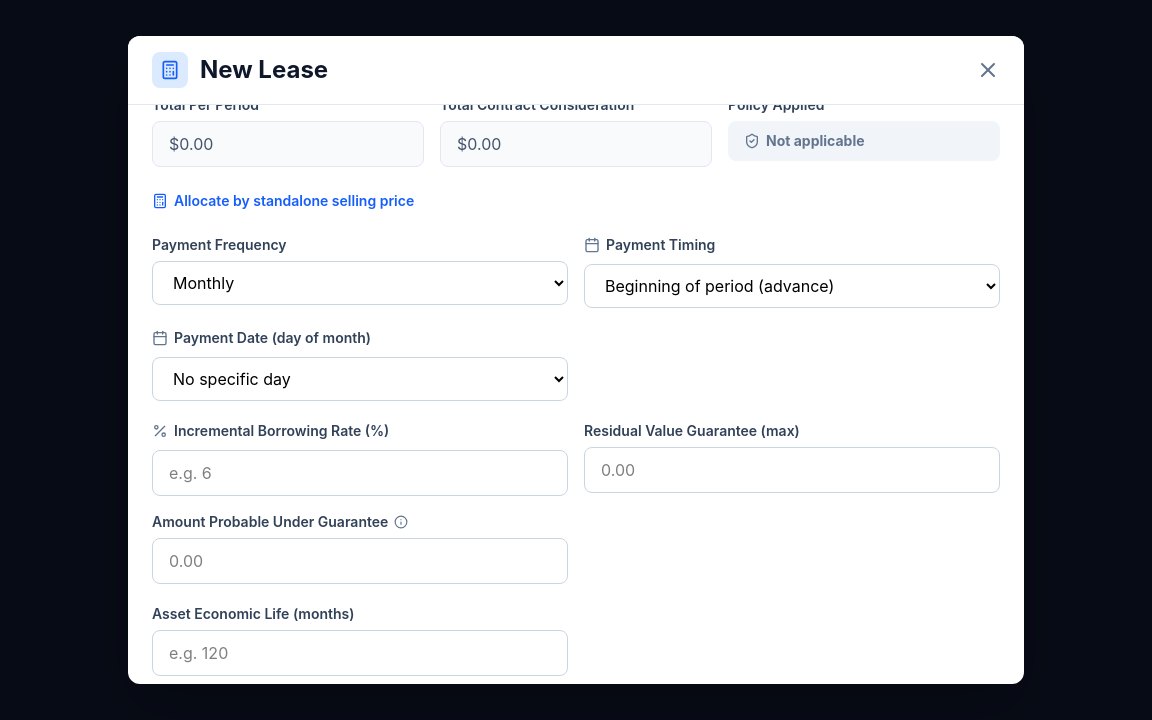
Test case: Create lease -> save_lease with generated schedule -> balanced initial recognition › client validation blocks the save: asset class, date order and a zero payment
Earlier steps of the test are not shown.
(page scrolled)
Submit the form named "Create Lease"
(page scrolled)
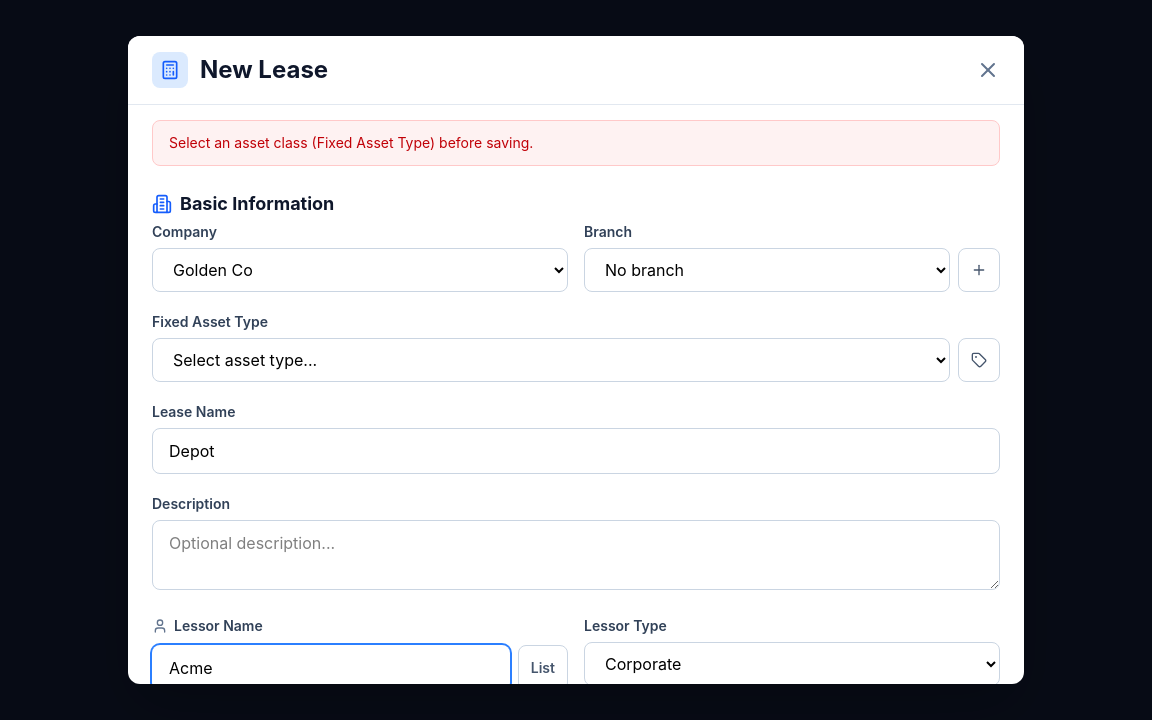
Result: the text "Select an asset class (Fixed Asset Type) before saving." is shown at 152,120 -> 1000,166
Select "Vehicles (VEH)" in the 3rd dropdown showing "Select asset type..." at point(551, 360), box 152,338 -> 950,382
(page scrolled)
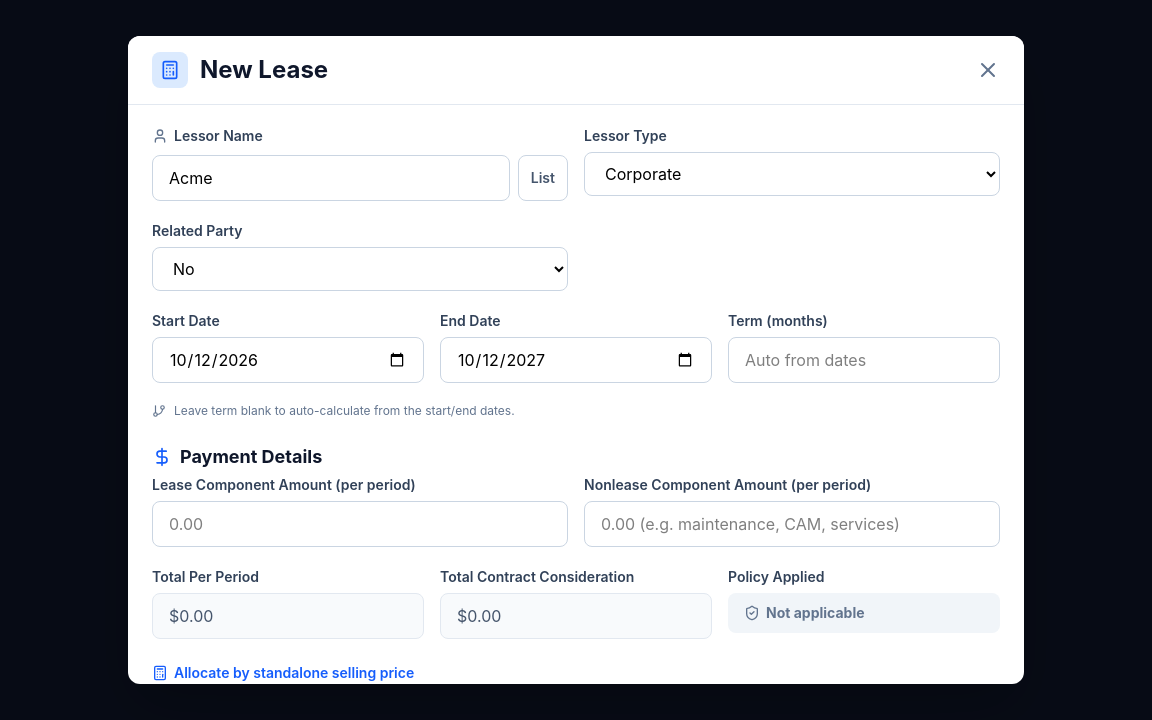
Type "2026-05-01" into the date field below "Start Date" at point(288, 360), box 152,337 -> 424,383
Type "2026-01-01" into the 2nd date field at point(576, 360), box 440,337 -> 712,383
(page scrolled)
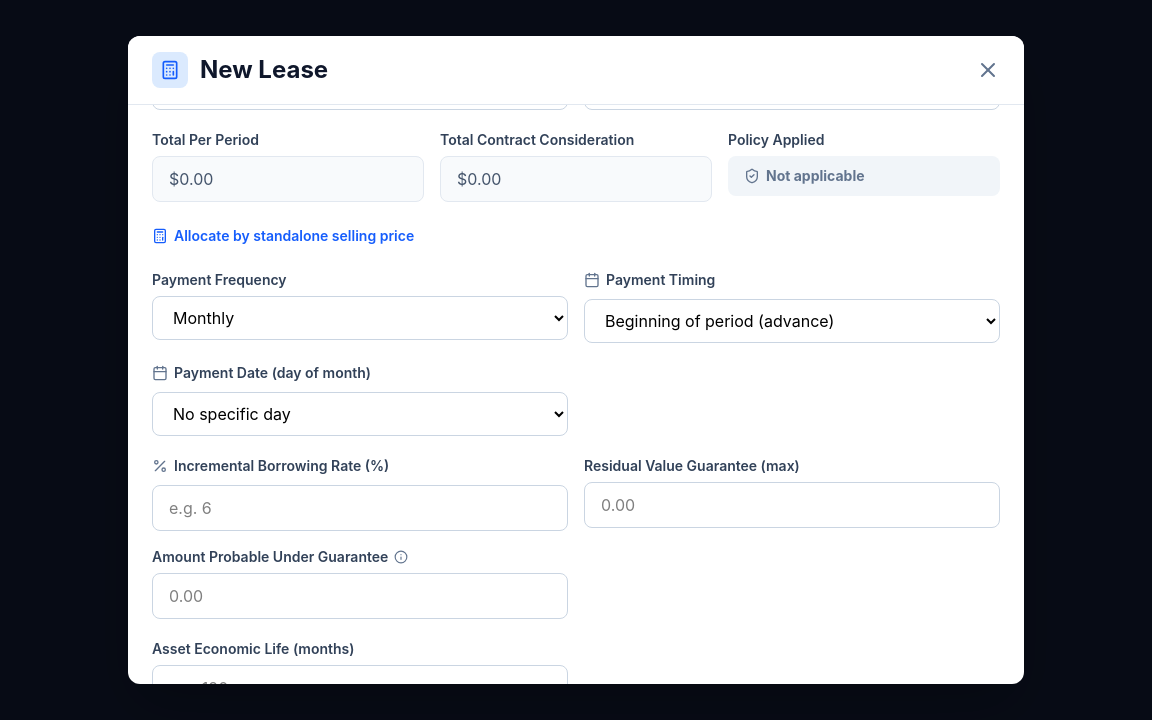
Submit the form
(page scrolled)
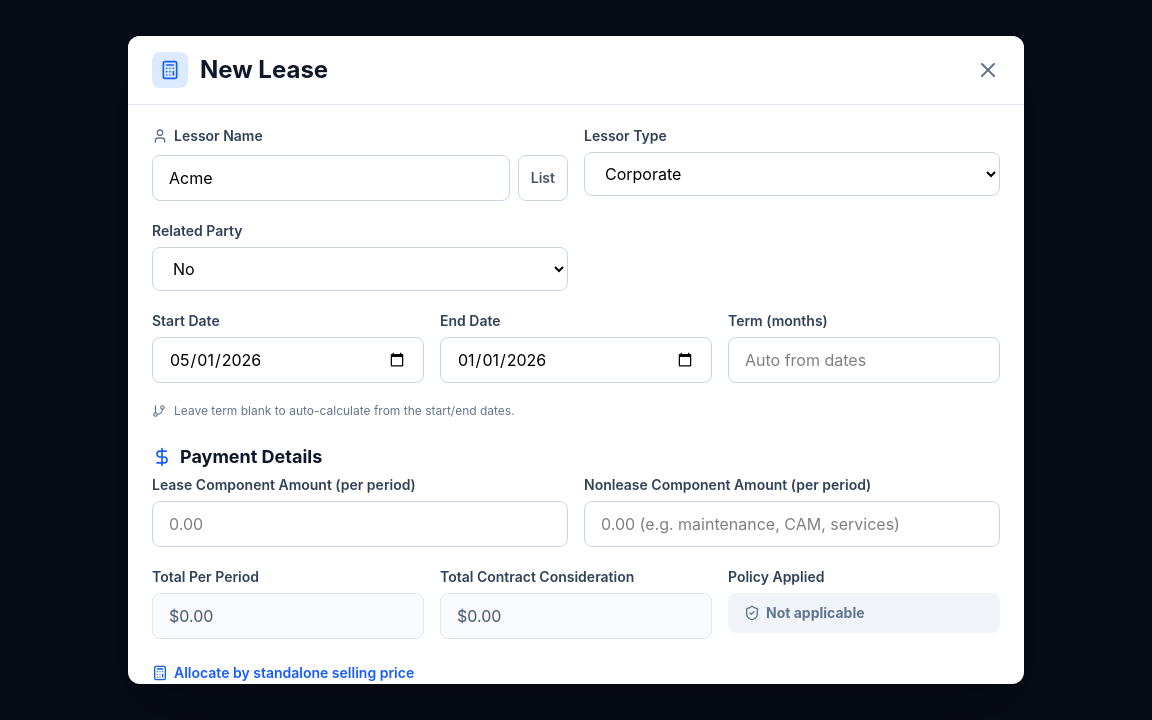
Type "2029-04-30" into the 2nd date field at point(576, 360), box 440,337 -> 712,383
(page scrolled)
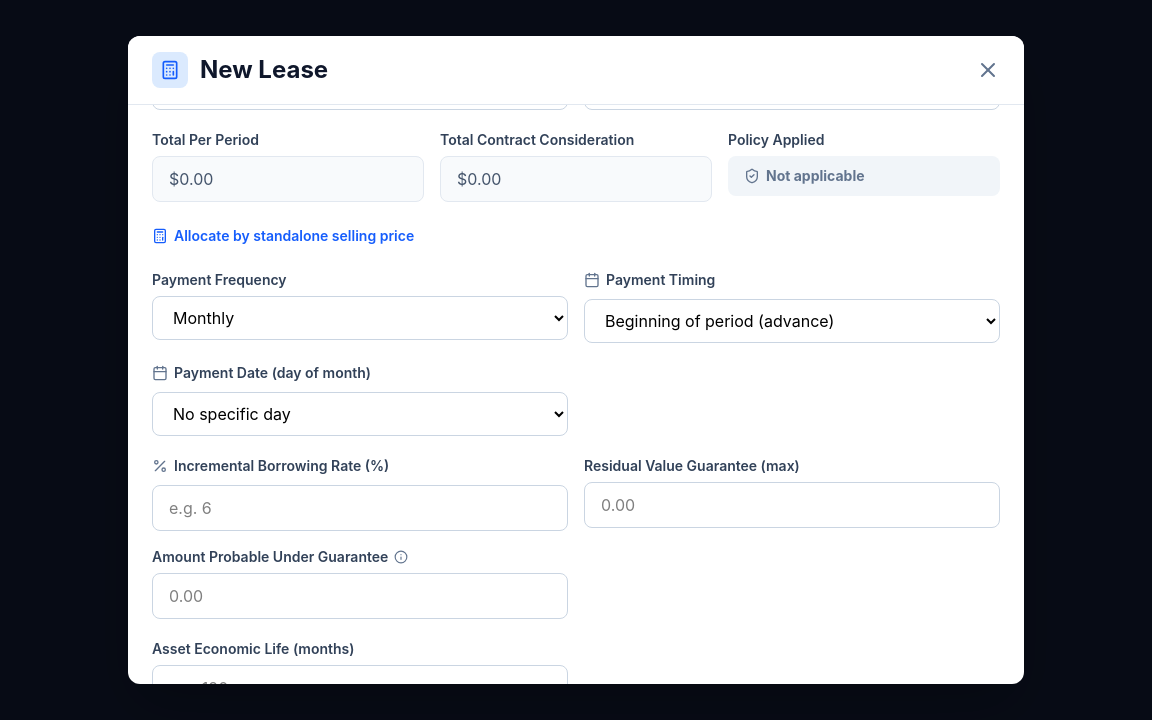
Submit the form
(page scrolled)
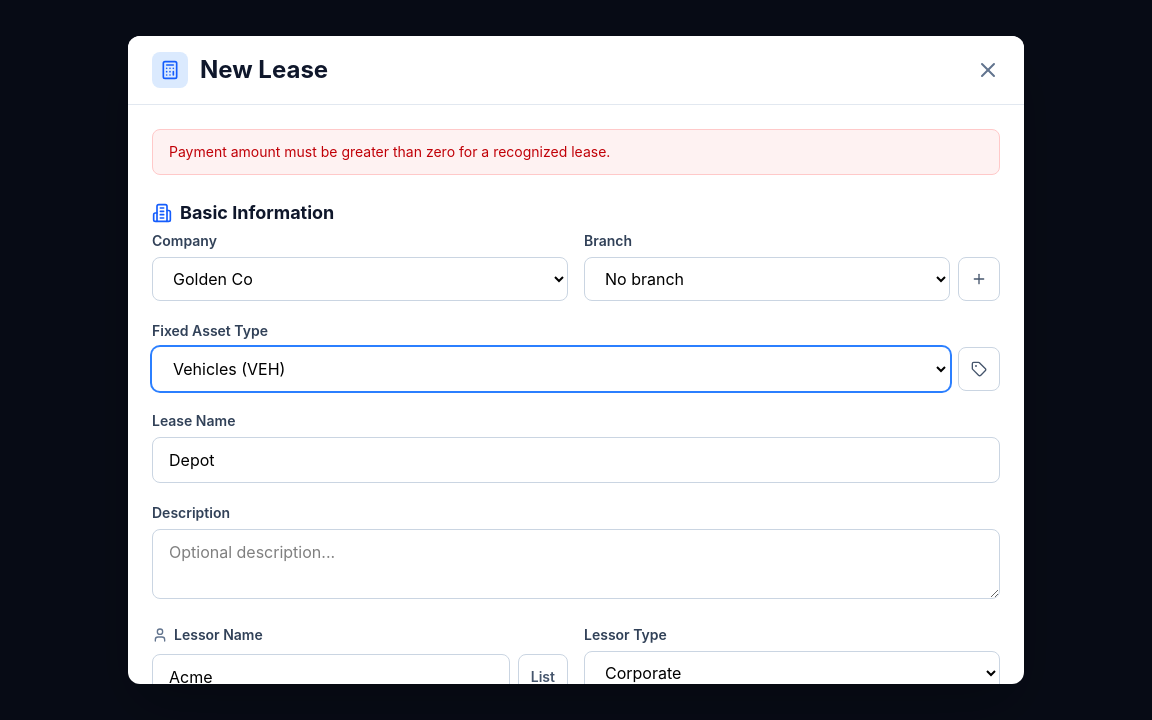
Result: the text "Payment amount must be greater than zero for a recognized lease." is shown at 152,129 -> 1000,175
